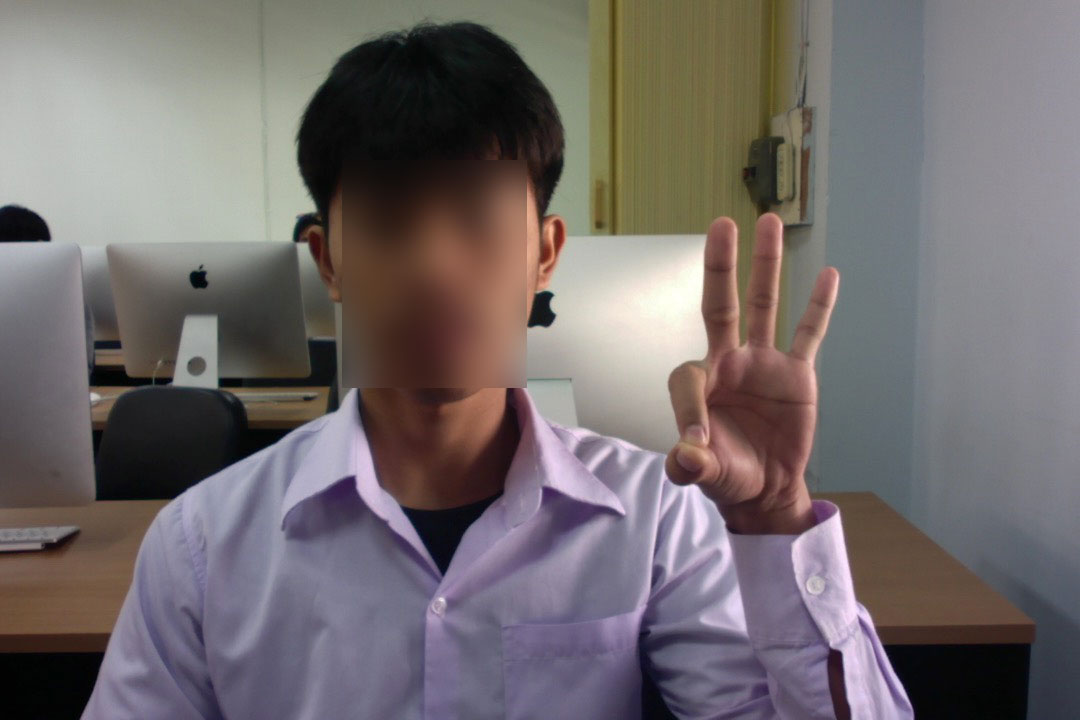for: (608, 191, 877, 558)
